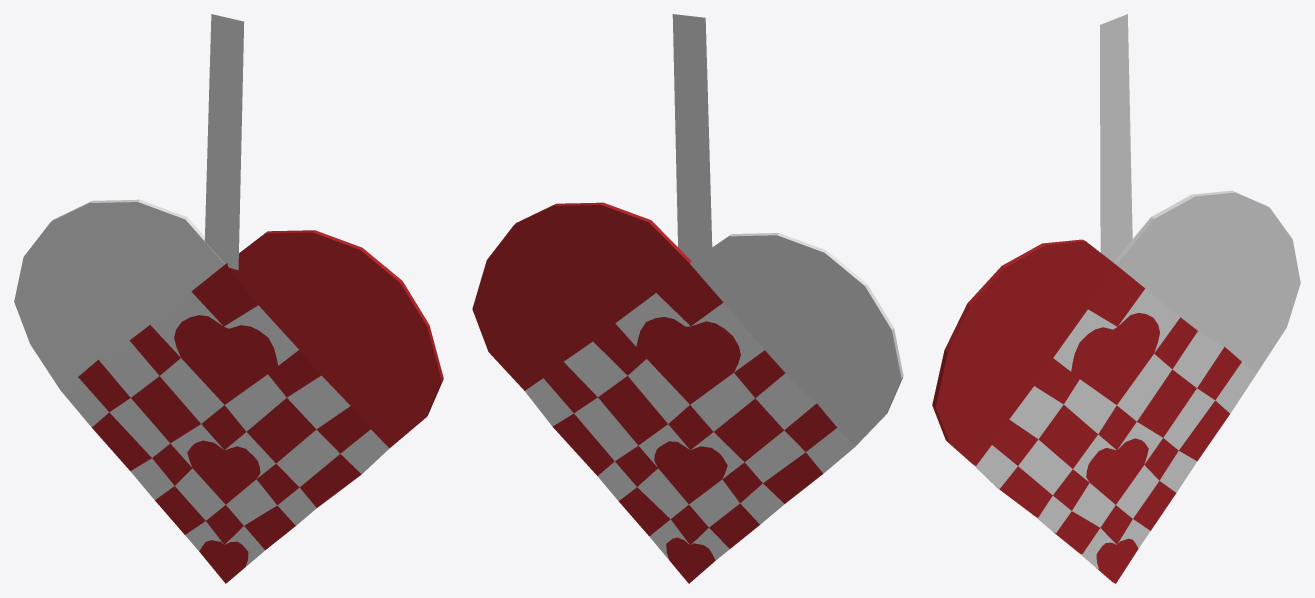
Rendered from heart11.glb.
3 views of the same model, side by side, from view 1: azimuth 30°, elevation 25°; view 2: azimuth 210°, elevation 25°; view 3: azimuth 270°, elevation 25° (orthographic).
Parts seen in each view (by area): view 1: heart11; view 2: heart11; view 3: heart11.
Boxes of the visible parts, box(x1,y1,x2,y2) form: heart11: box(14, 14, 443, 583); heart11: box(472, 14, 903, 583); heart11: box(932, 14, 1300, 583).
Size of the model in its own units: 0.0858 by 0.1866 by 0.1104.
